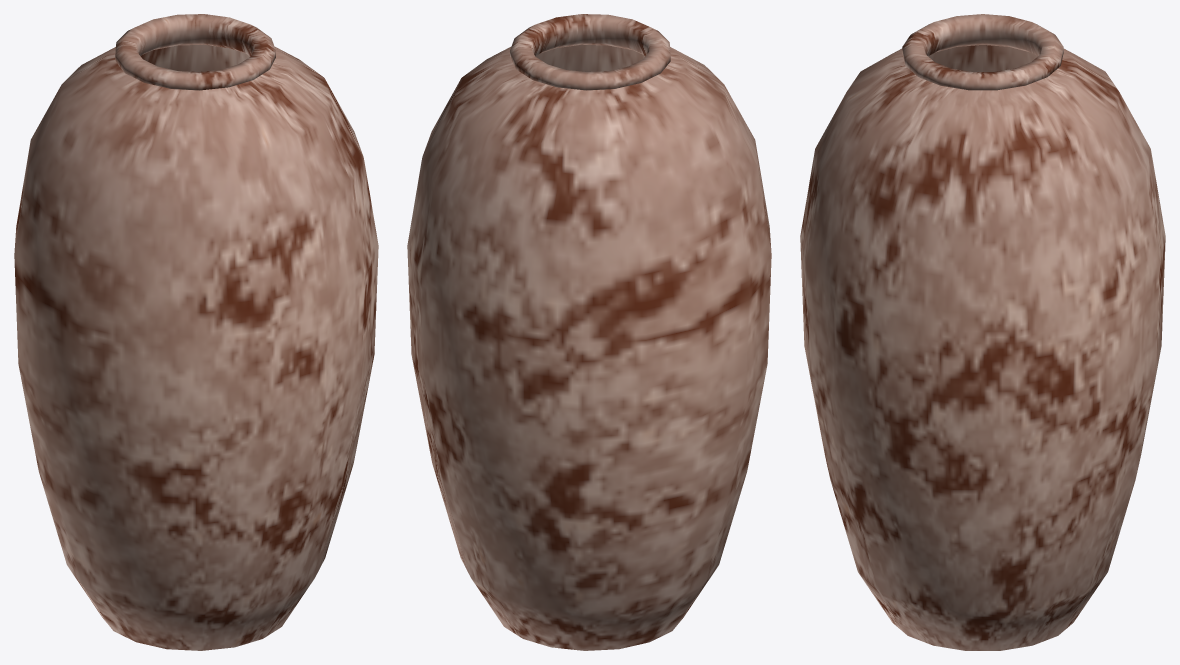
Rendered from Vase_Marble_Oval_Open_Lipped.fbx.
The picture shows the model from 3 angles, left to right: view 1: azimuth 30°, elevation 25°; view 2: azimuth 150°, elevation 25°; view 3: azimuth 270°, elevation 25°; orthographic projection.
Visible parts, largest first — view 1: Vase_Marble_Oval_Open_Lipped; view 2: Vase_Marble_Oval_Open_Lipped; view 3: Vase_Marble_Oval_Open_Lipped.
Part boxes in pixels (<box>): Vase_Marble_Oval_Open_Lipped: <box>14,14,378,650</box>; Vase_Marble_Oval_Open_Lipped: <box>407,14,771,650</box>; Vase_Marble_Oval_Open_Lipped: <box>800,14,1165,650</box>.
Size of the model in its own units: 68.68 by 121 by 68.98.
